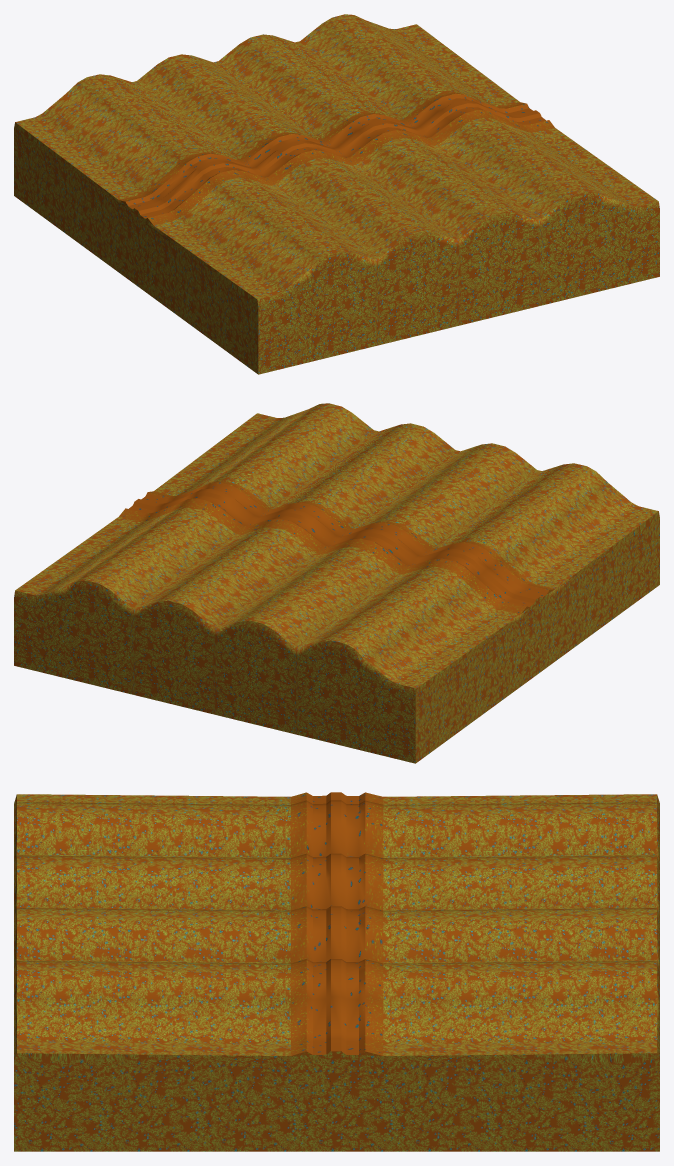
Rendered from Road_grooves_BunnyHops .fbx.
3 renders of one model, top to bottom at view 1: azimuth 30°, elevation 25°; view 2: azimuth 150°, elevation 25°; view 3: azimuth 270°, elevation 25°, orthographic. The views are drawn at different scales.
Visible parts, largest first — view 1: Mesh_Path_BunnyHops; view 2: Mesh_Path_BunnyHops; view 3: Mesh_Path_BunnyHops.
Part boxes in pixels (box(x1,y1,x2,y2)): Mesh_Path_BunnyHops: box(14, 14, 659, 374); Mesh_Path_BunnyHops: box(14, 403, 659, 763); Mesh_Path_BunnyHops: box(14, 792, 659, 1151).
Bounding box in the file's own units: 5588 × 1374 × 5890.
